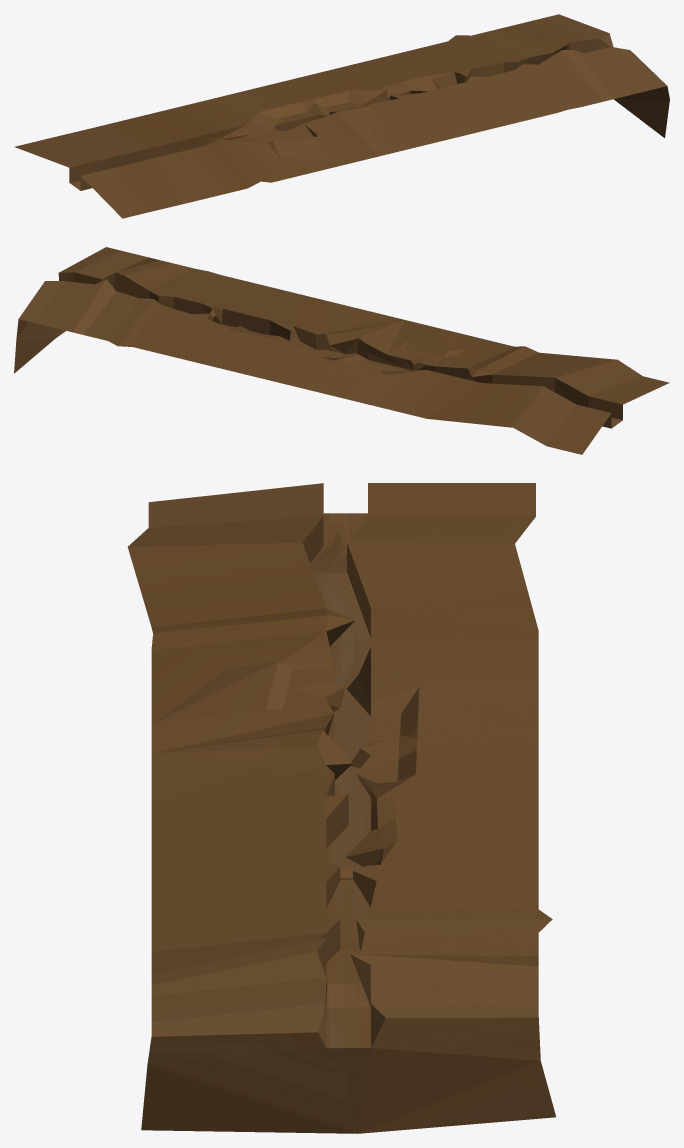
Rendered from Pasillo de artilleros.fbx.
3 views of the same model, one above another, from view 1: azimuth 30°, elevation 25°; view 2: azimuth 150°, elevation 25°; view 3: azimuth 270°, elevation 25° (orthographic). The views are drawn at different scales.
Visible parts, largest first — view 1: Plane; view 2: Plane; view 3: Plane.
Boxes of the visible parts, left/top/right/bottom form: Plane: left=14, top=14, right=669, bottom=218; Plane: left=14, top=247, right=669, bottom=454; Plane: left=127, top=483, right=555, bottom=1133.
Size of the model in its own units: 93030 by 10941 by 30737.
